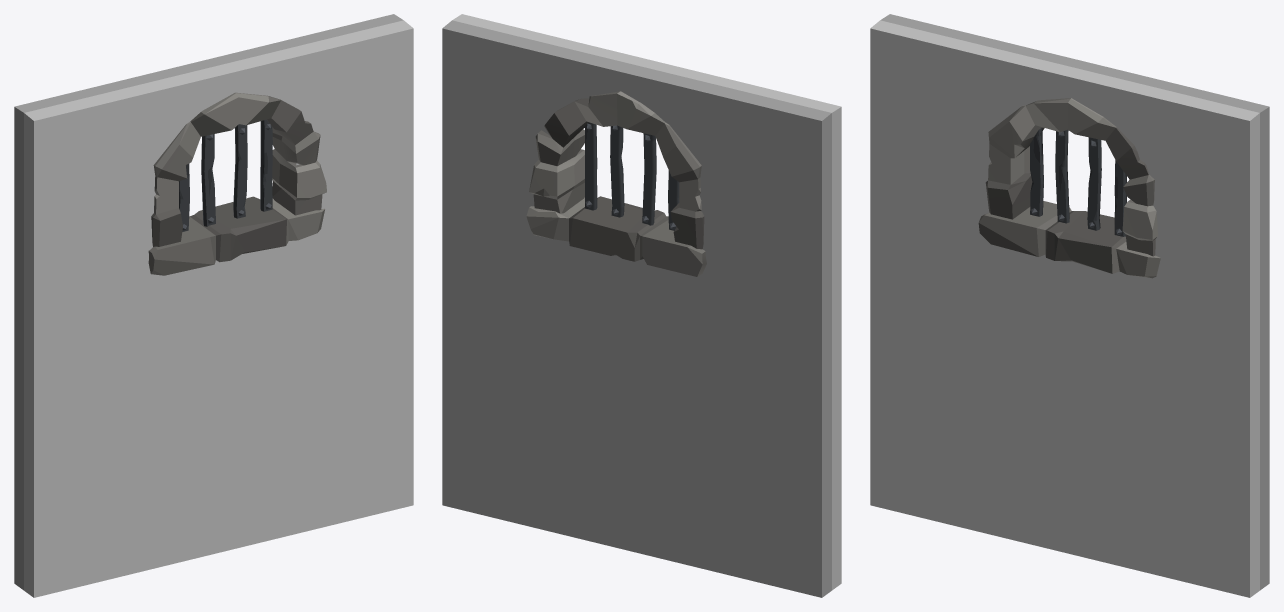
The model's file is SM_Bld_Prison_Wall_Window_01.fbx.
3 views of the same model, side by side, from view 1: azimuth 30°, elevation 25°; view 2: azimuth 150°, elevation 25°; view 3: azimuth 330°, elevation 25° (orthographic).
Visible parts, largest first — view 1: SM_Bld_Prison_Wall_Window_01; view 2: SM_Bld_Prison_Wall_Window_01; view 3: SM_Bld_Prison_Wall_Window_01.
Part boxes in pixels (left/top/right/bottom): SM_Bld_Prison_Wall_Window_01: left=14, top=14, right=413, bottom=597; SM_Bld_Prison_Wall_Window_01: left=442, top=14, right=841, bottom=597; SM_Bld_Prison_Wall_Window_01: left=870, top=14, right=1269, bottom=597.
Bounding box in the file's own units: 250 × 301 × 36.7.
